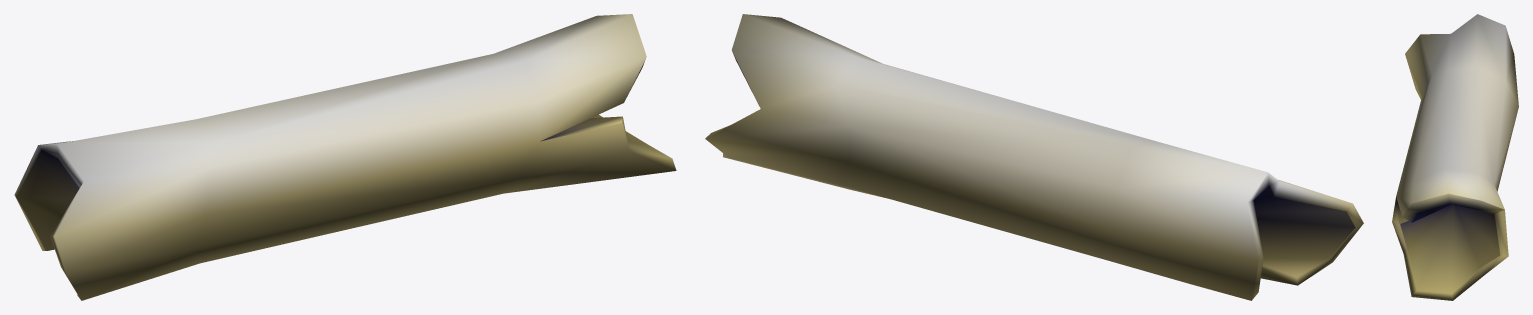
File: LogPlatform.gltf
3 views of the same model, side by side, from view 1: azimuth 30°, elevation 25°; view 2: azimuth 150°, elevation 25°; view 3: azimuth 270°, elevation 25° (orthographic). The views are drawn at different scales.
Visible parts, largest first — view 1: LogPlatformMesh; view 2: LogPlatformMesh; view 3: LogPlatformMesh.
Part boxes in pixels (x1,y1,x2,y2): LogPlatformMesh: [14, 14, 676, 300]; LogPlatformMesh: [705, 14, 1363, 300]; LogPlatformMesh: [1392, 14, 1518, 300].
Size of the model in its own units: 4.6 by 1.05 by 1.19.
